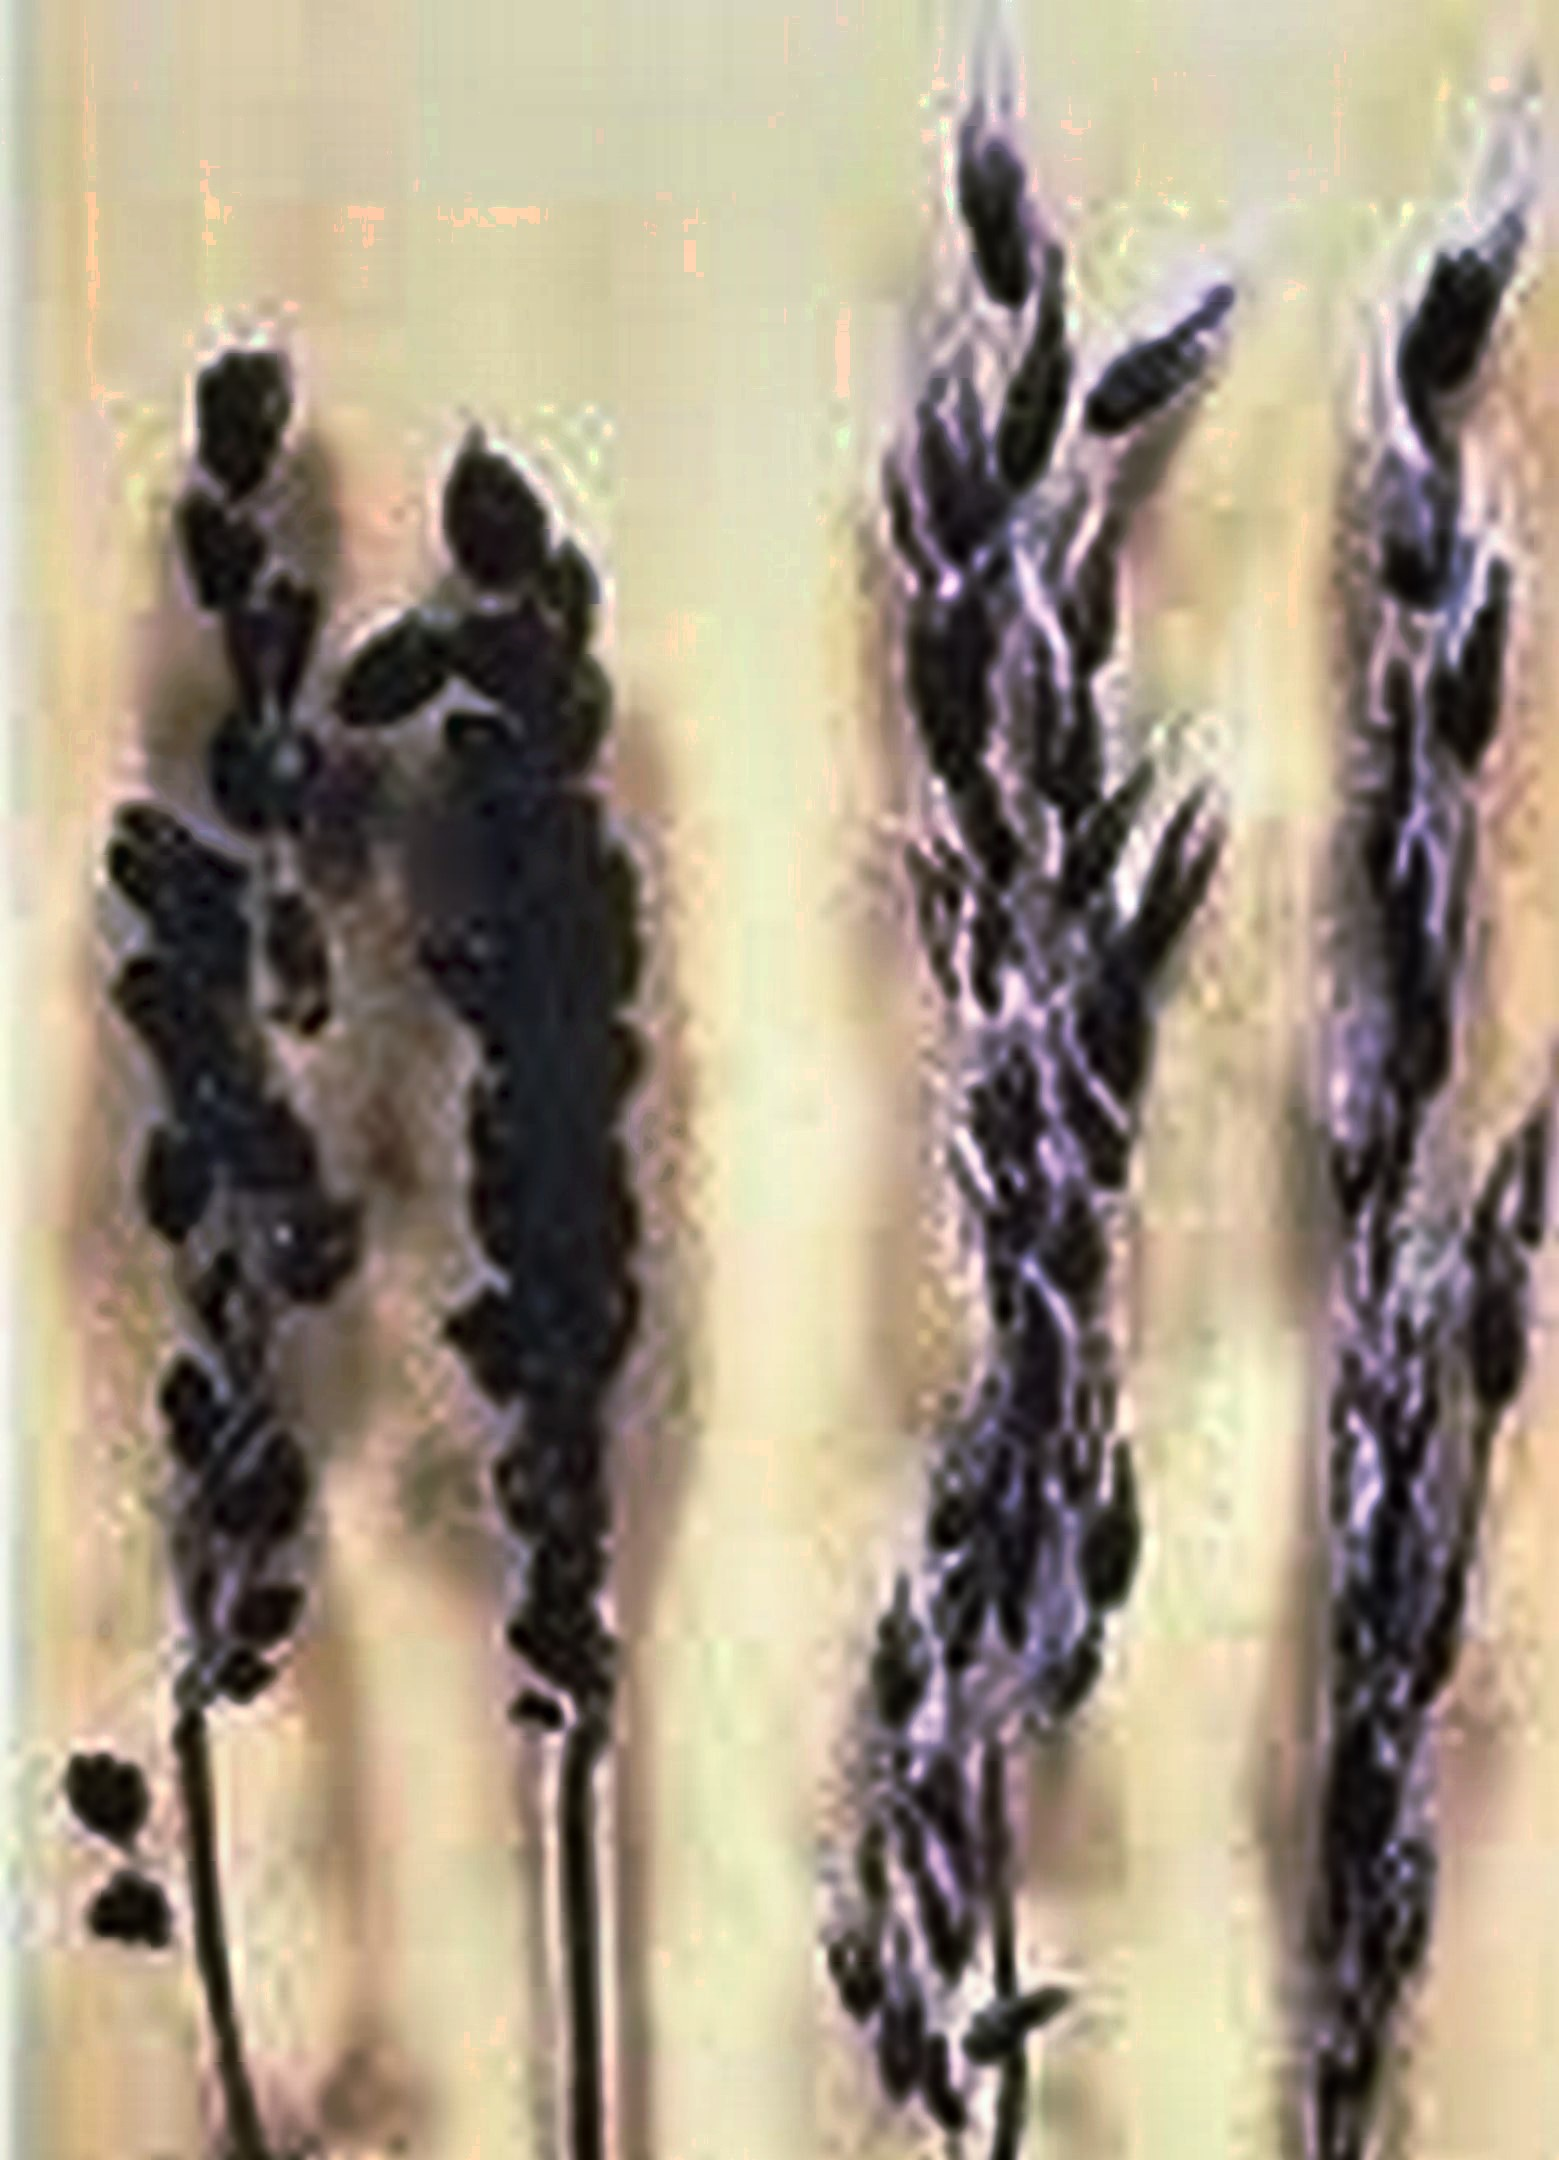Wheat Loose Smut: (796, 77, 1552, 2147), (74, 282, 724, 1811)
